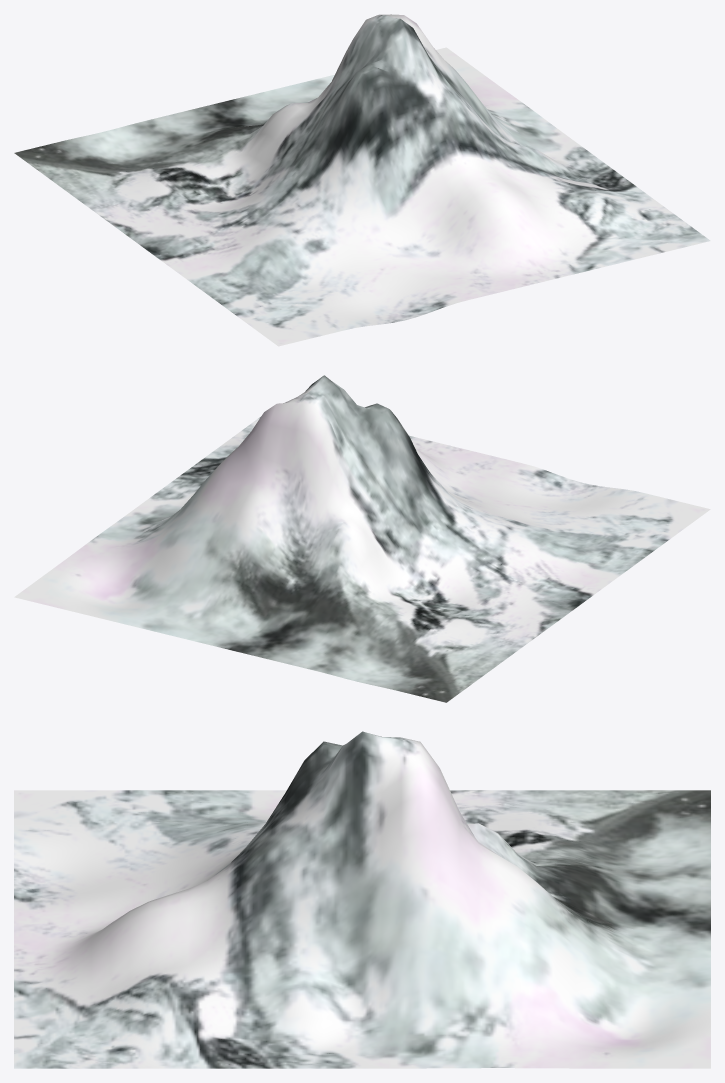
The model's file is mountain2.obj.
3 renders of one model, top to bottom at view 1: azimuth 30°, elevation 25°; view 2: azimuth 150°, elevation 25°; view 3: azimuth 270°, elevation 25°, orthographic. The views are drawn at different scales.
Parts seen in each view (by area): view 1: SketchUp; view 2: SketchUp; view 3: SketchUp.
Part boxes in pixels (x1=…): SketchUp: x1=14, y1=14, x2=710, y2=346; SketchUp: x1=14, y1=375, x2=710, y2=702; SketchUp: x1=14, y1=731, x2=710, y2=1068.
Bounding box in the file's own units: 102 × 40.25 × 108.
Materials: 1 (1 with a texture image).
